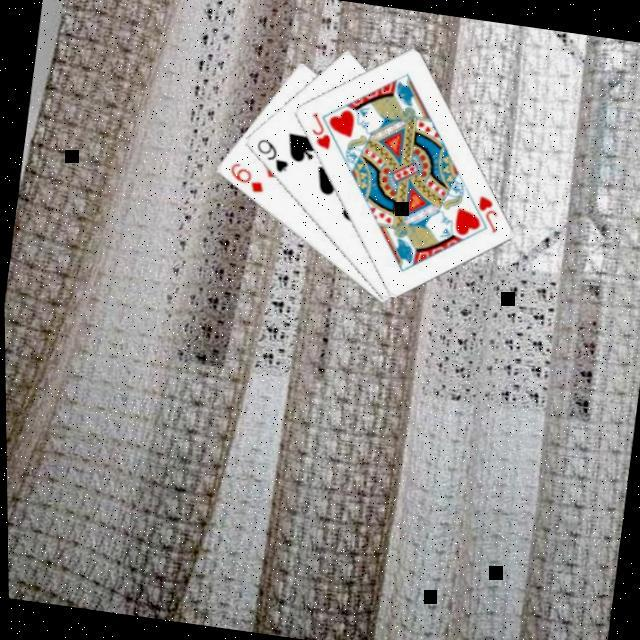6D: (222, 156, 268, 196)
9S: (247, 132, 293, 175)
JH: (302, 106, 336, 150), (468, 190, 502, 234)
